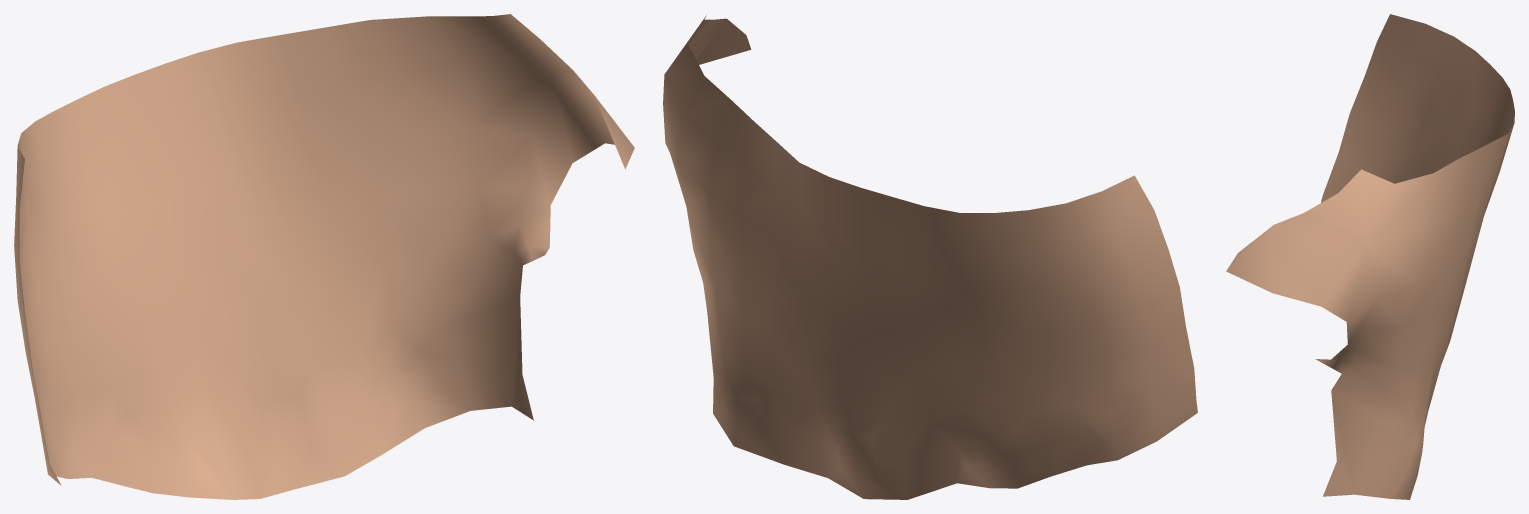
The model's file is dorsum-of-hand-l.glb.
3 renders of one model, left to right at view 1: azimuth 30°, elevation 25°; view 2: azimuth 150°, elevation 25°; view 3: azimuth 270°, elevation 25°, orthographic. The views are drawn at different scales.
Visible parts, largest first — view 1: Dorsum of hand.l; view 2: Dorsum of hand.l; view 3: Dorsum of hand.l.
Part boxes in pixels (x1=…): Dorsum of hand.l: x1=14, y1=14, x2=634, y2=499; Dorsum of hand.l: x1=663, y1=15, x2=1197, y2=499; Dorsum of hand.l: x1=1226, y1=14, x2=1514, y2=499.
Size of the model in its own units: 0.0989 by 0.075 by 0.0523.
